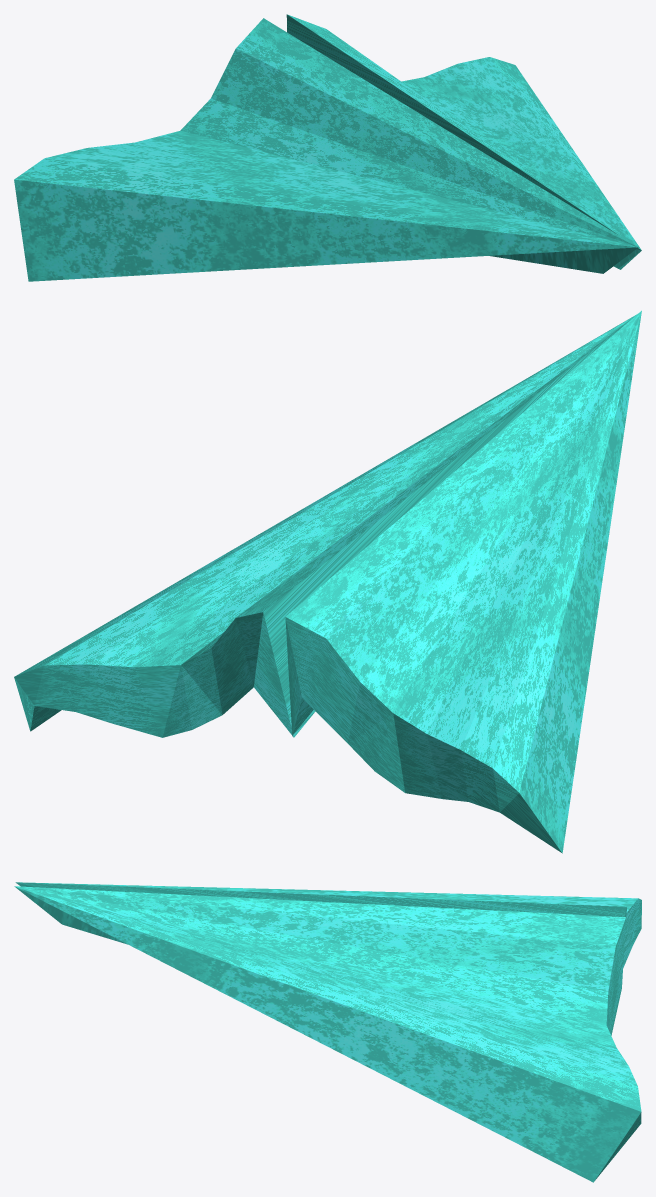
File: playerK.obj
3 views of the same model, one above another, from view 1: azimuth 30°, elevation 25°; view 2: azimuth 150°, elevation 25°; view 3: azimuth 270°, elevation 25° (orthographic). The views are drawn at different scales.
Parts seen in each view (by area): view 1: 円錐.002; view 2: 円錐.002; view 3: 円錐.002.
Part boxes in pixels (x1,y1,x2,y2): 円錐.002: [14, 14, 641, 281]; 円錐.002: [14, 310, 641, 853]; 円錐.002: [14, 882, 641, 1182].
Bounding box in the file's own units: 1.61 × 0.671 × 1.98.
1 material, 1 textured.
